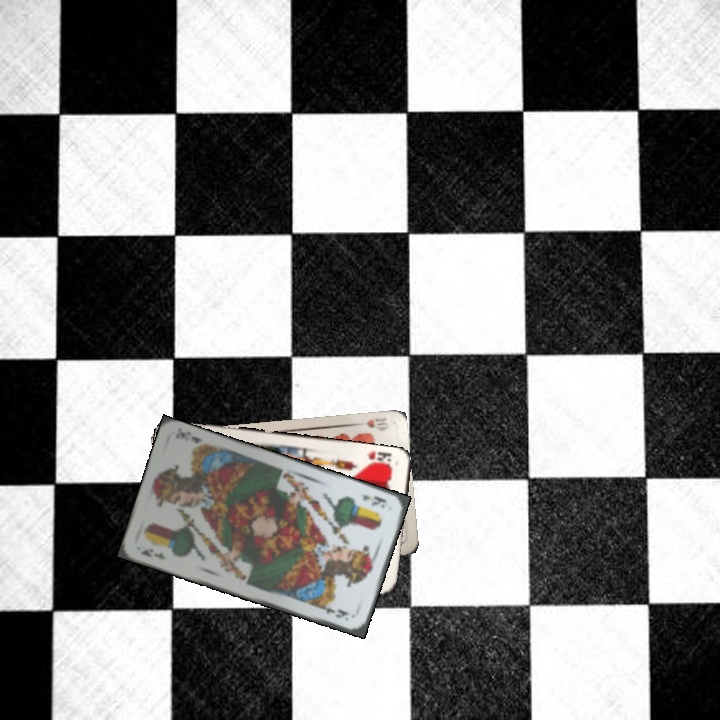EK: (359, 491, 389, 511), (136, 544, 168, 562)
H10: (352, 413, 391, 432)
HK: (364, 447, 395, 470)
